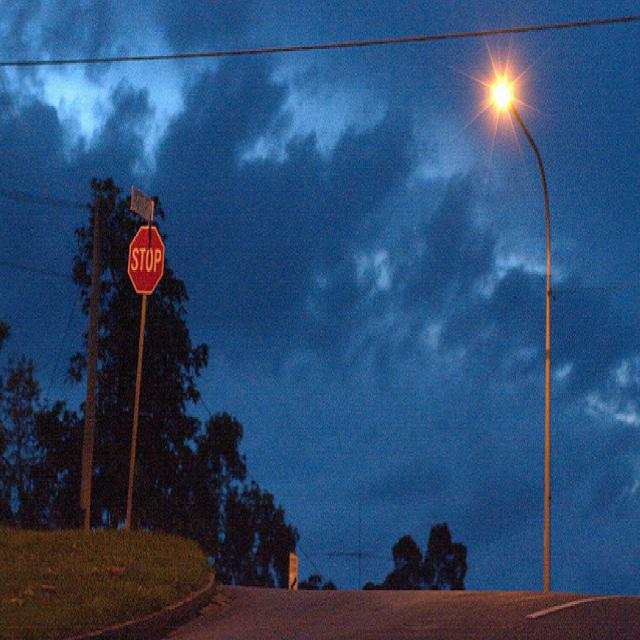STOP: (126, 222, 170, 306)
